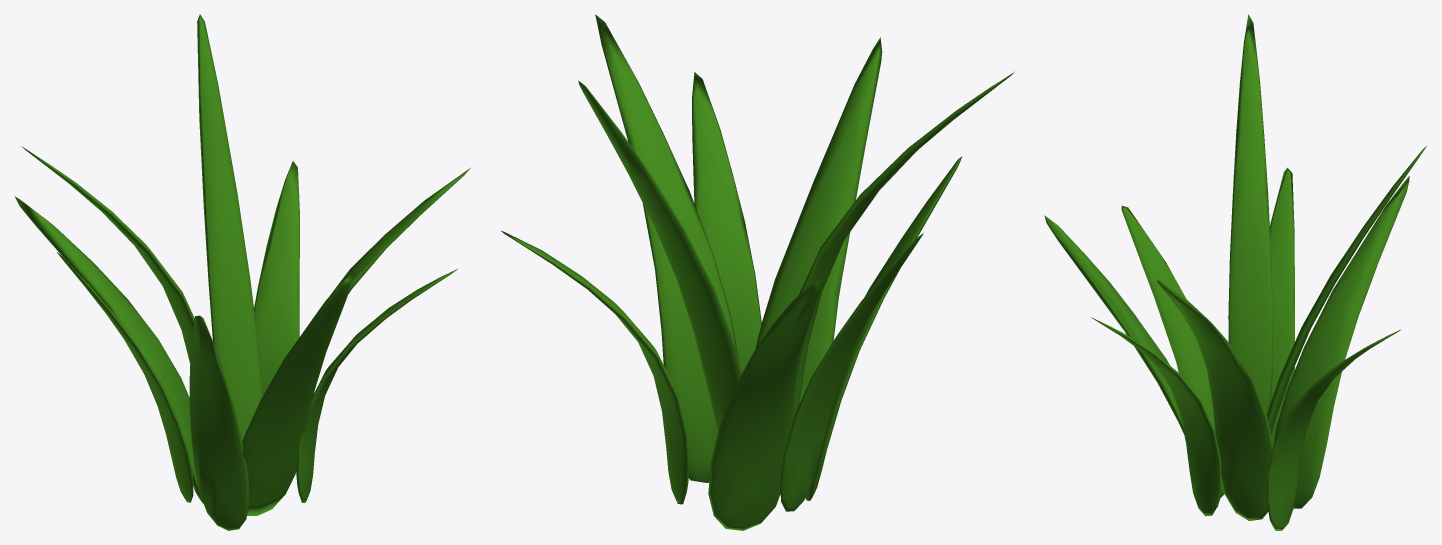
Rendered from Beach_Grass_1.glb.
3 renders of one model, left to right at view 1: azimuth 30°, elevation 25°; view 2: azimuth 150°, elevation 25°; view 3: azimuth 270°, elevation 25°, orthographic. The views are drawn at different scales.
Parts seen in each view (by area): view 1: Object_12; view 2: Object_12; view 3: Object_12.
Part boxes in pixels (x1,y1,x2,y2): Object_12: (15,14,470,530); Object_12: (501,14,1014,530); Object_12: (1044,14,1426,530).
Bounding box in the file's own units: 8 × 8.02 × 6.98.
